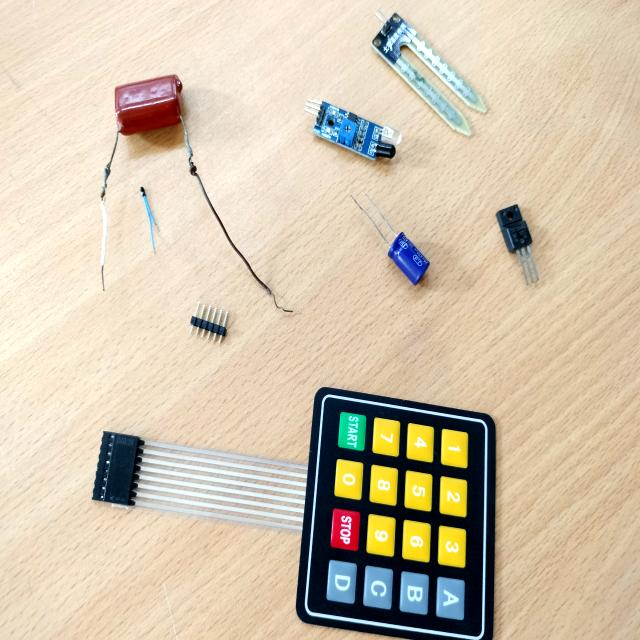capacitor: (115, 76, 184, 155), (388, 235, 429, 285)
